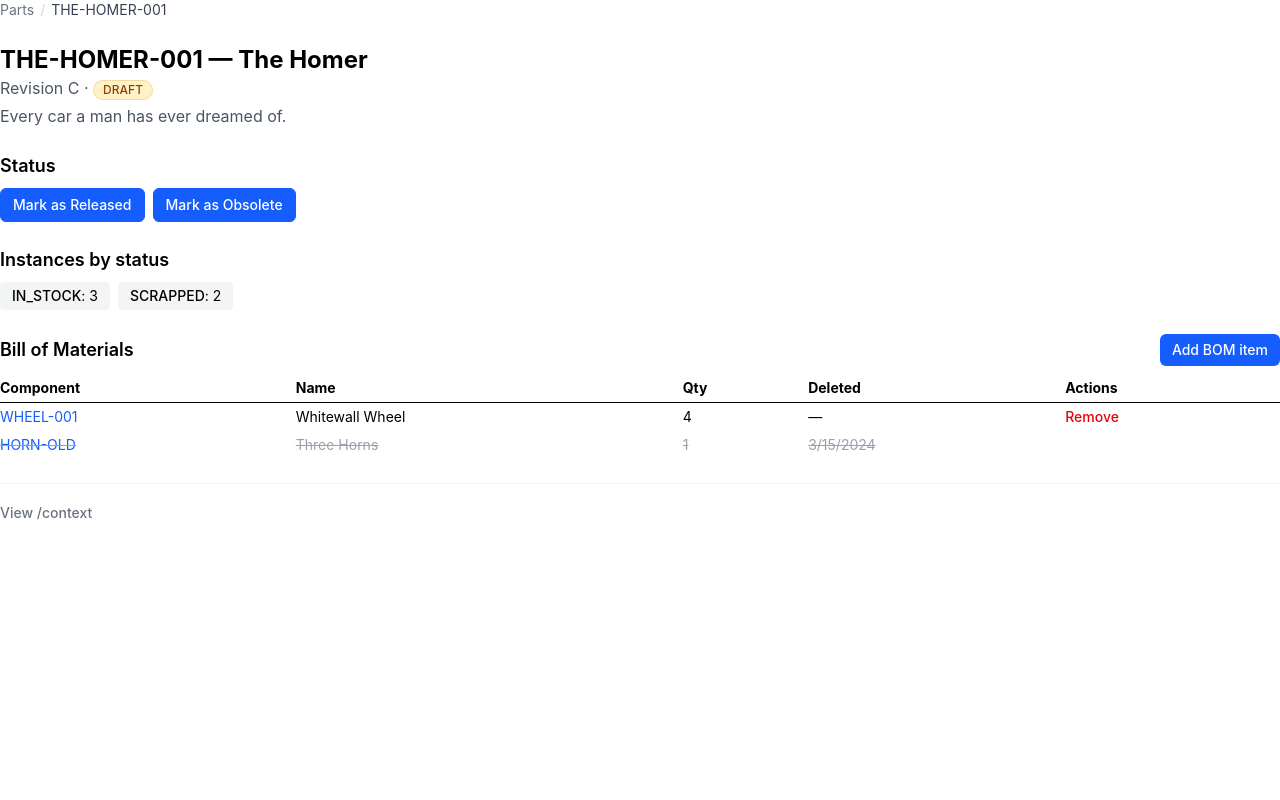
Test: PartDetail › opens the /context modal and shows the payload
Expected: the heading "THE-HOMER-001 — The Homer" is shown, [0,45,368,74]
Click the button "View /context" at (46,513), box [0,503,92,523]
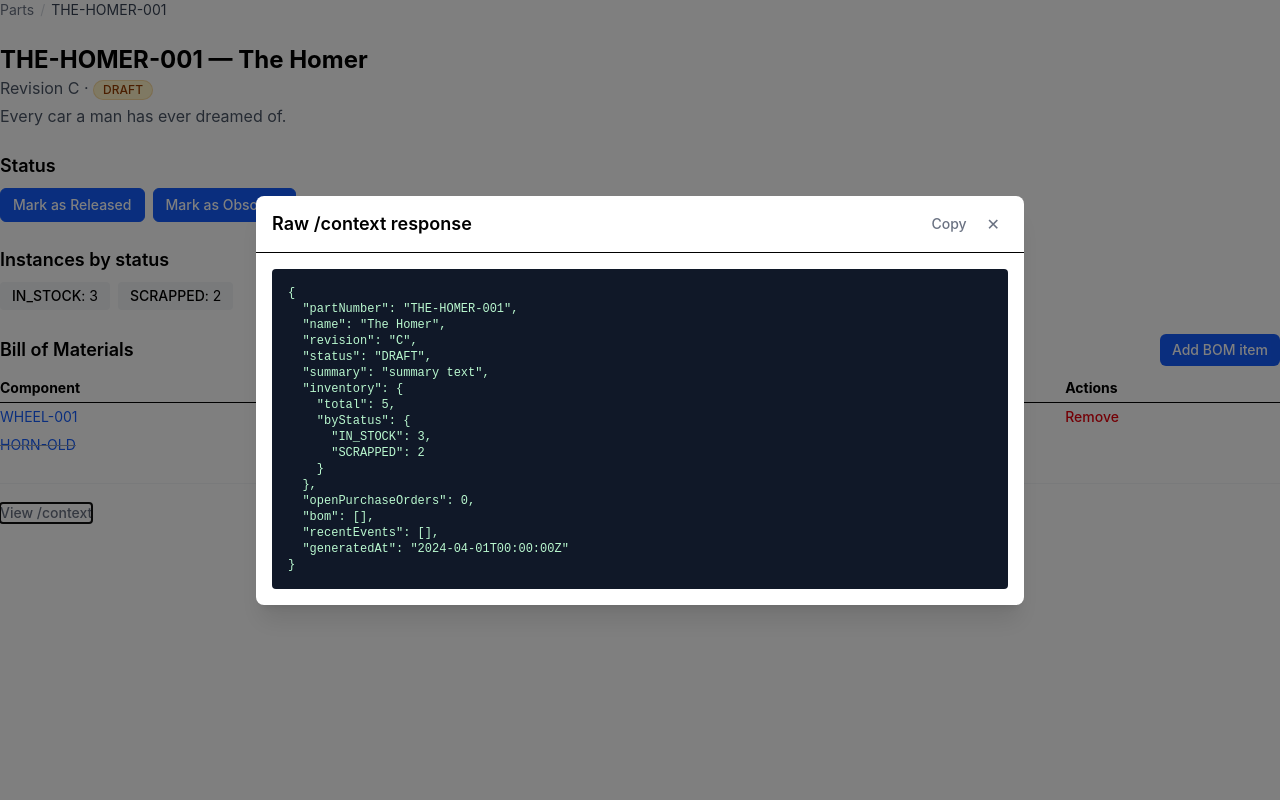
Expected: the heading "Raw /context response" is shown, [272,210,472,238]
Expected: the dialog shows "IN_STOCK", [288,286,569,572]
Expected: the dialog shows "openPurchaseOrders", [288,286,569,572]
Closing via the Close button removes the dialog.
Click the button named "Close" at (993,224), box [979,208,1008,240]
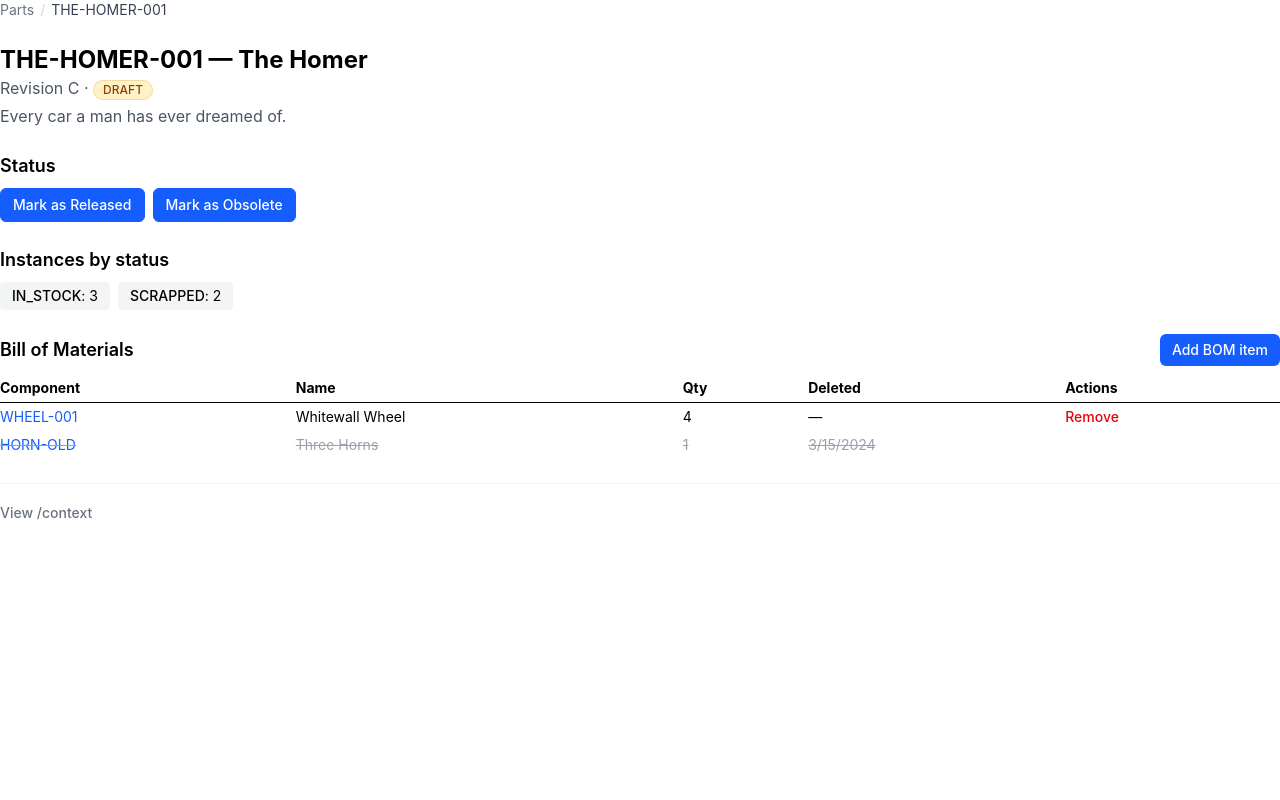
Expected: the dialog is gone
